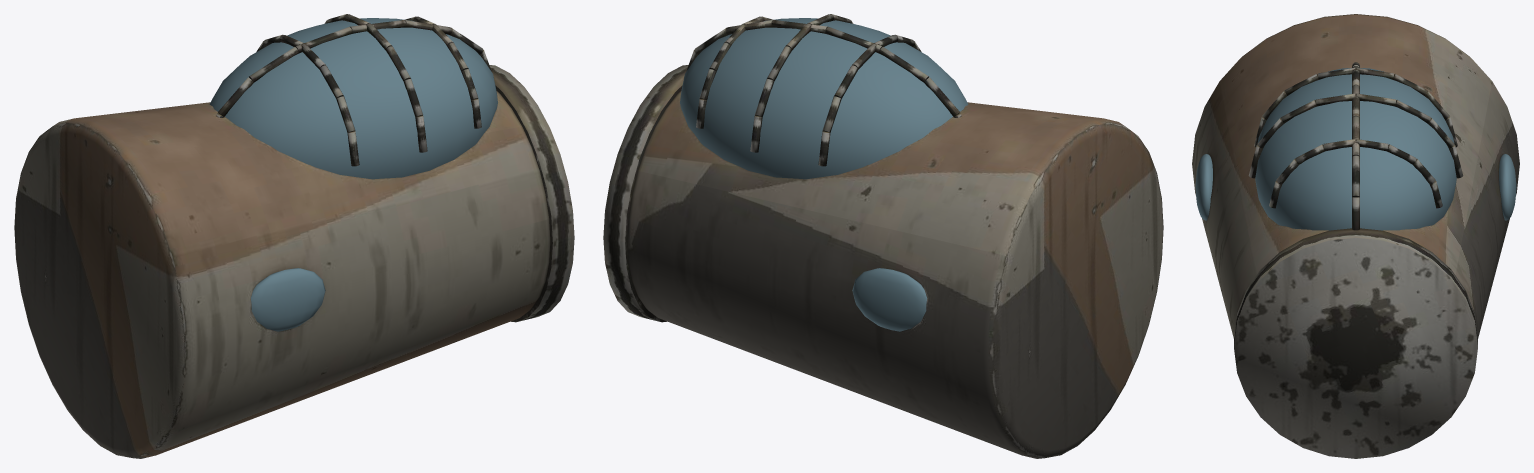
Rendered from turret_kit_tail_cabin_rock.glb.
3 renders of one model, left to right at view 1: azimuth 30°, elevation 25°; view 2: azimuth 150°, elevation 25°; view 3: azimuth 270°, elevation 25°, orthographic. The views are drawn at different scales.
Parts seen in each view (by area): view 1: turret_tail_cabin; view 2: turret_tail_cabin; view 3: turret_tail_cabin.
Boxes of the visible parts, left/top/right/bottom form: turret_tail_cabin: left=14, top=14, right=574, bottom=458; turret_tail_cabin: left=603, top=14, right=1163, bottom=458; turret_tail_cabin: left=1192, top=14, right=1519, bottom=458.
Bounding box in the file's own units: 1.14 × 0.9506 × 0.8335.
2 materials, 1 textured.
